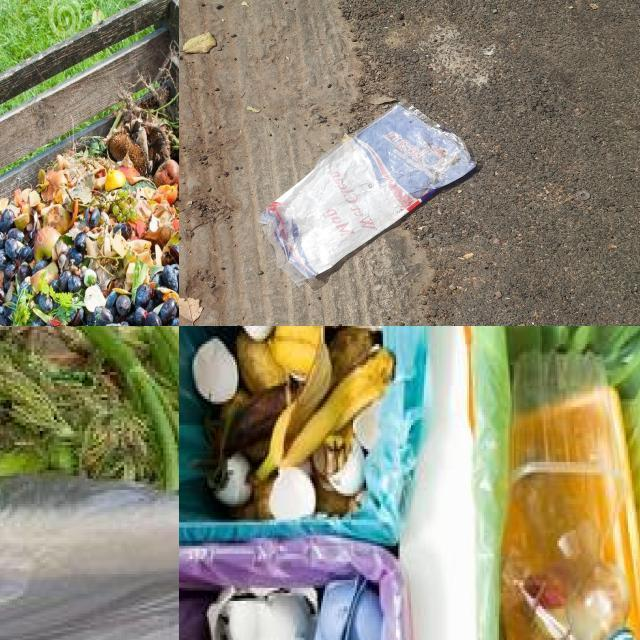Background: (179, 0, 640, 326)
Disposable: (314, 576, 384, 640)
Garbage: (181, 326, 640, 640), (0, 59, 179, 326), (0, 326, 179, 493)
Plastic: (501, 354, 640, 640)
Plastic_Bag: (261, 104, 476, 285)
contaminated_waste: (497, 349, 640, 640)
top_view_waste: (179, 326, 430, 544), (472, 326, 640, 640)
